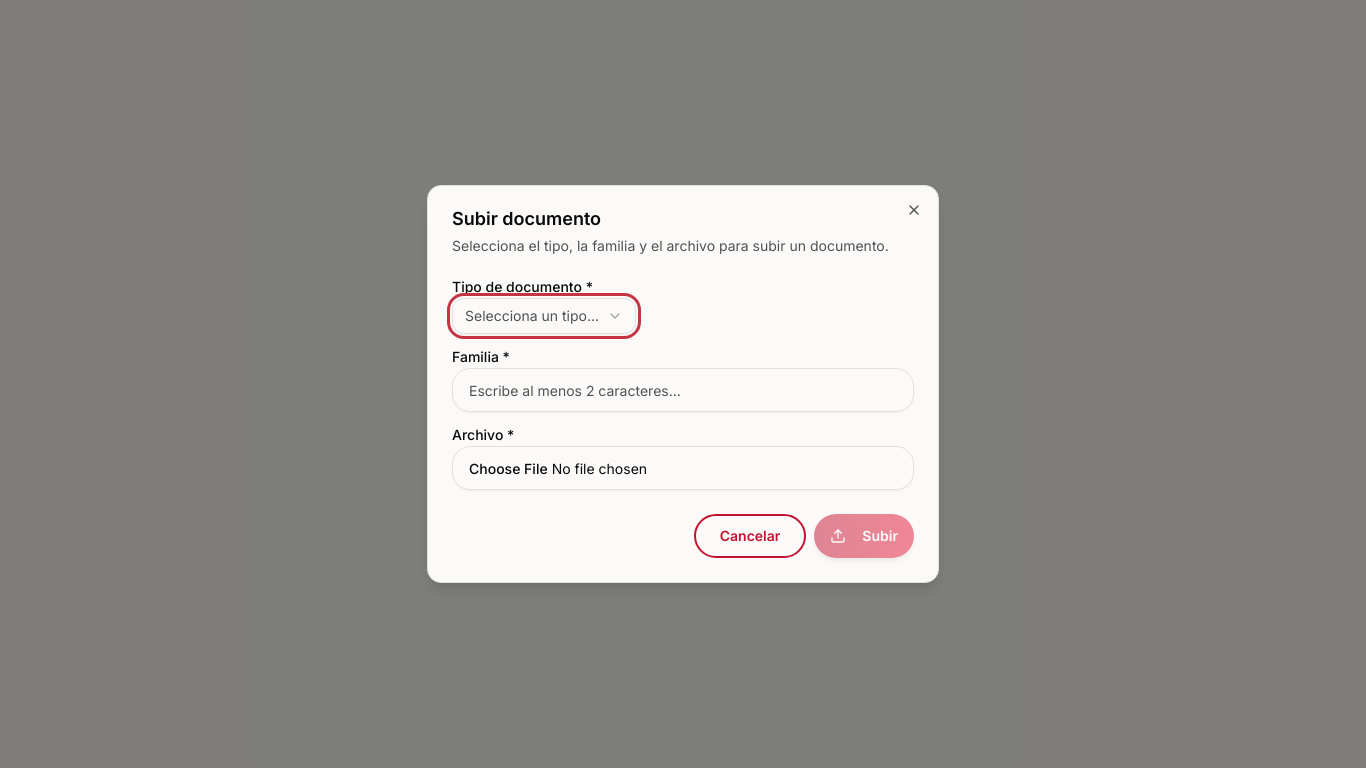
Test: UploadModal › 9. clicking a Familia search result selects it
This screenshot has width=1366, height=768.
Type "An" into the field named "Buscar familia" at [683, 390], box [452,368,914,412]
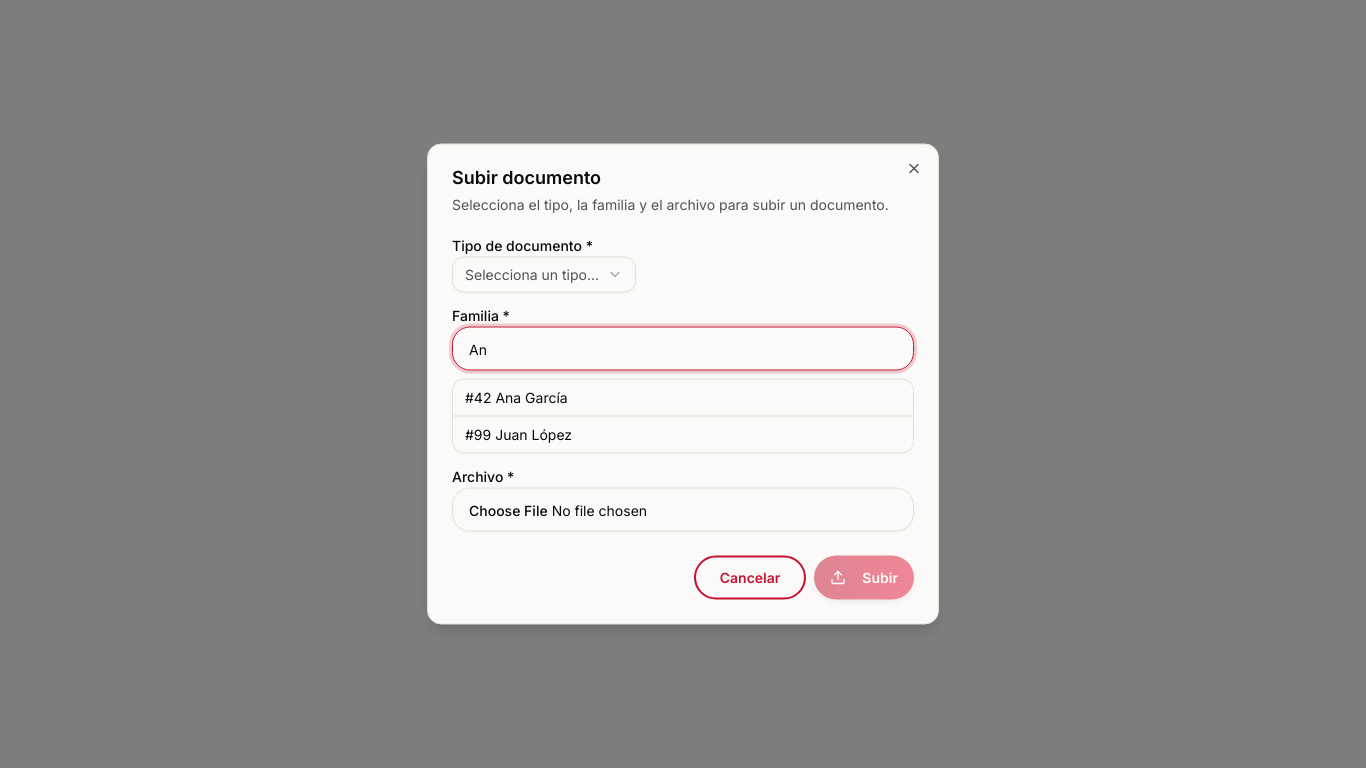
Click the button "#42 Ana García" at [516, 397], box [453,380,913,416]
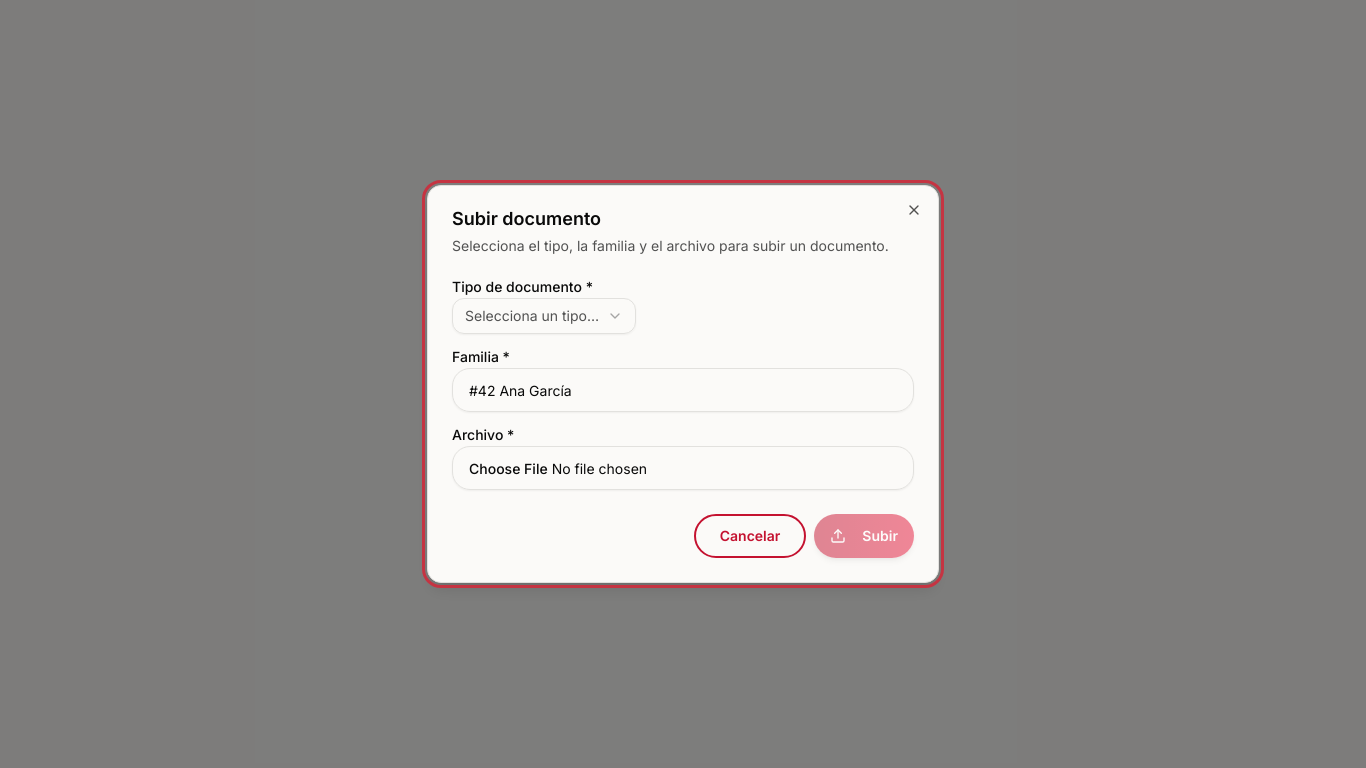
Check: the field named "Buscar familia" holds "#42 Ana García", box [452,368,914,412]
Check: the button "#99 Juan López" is gone
